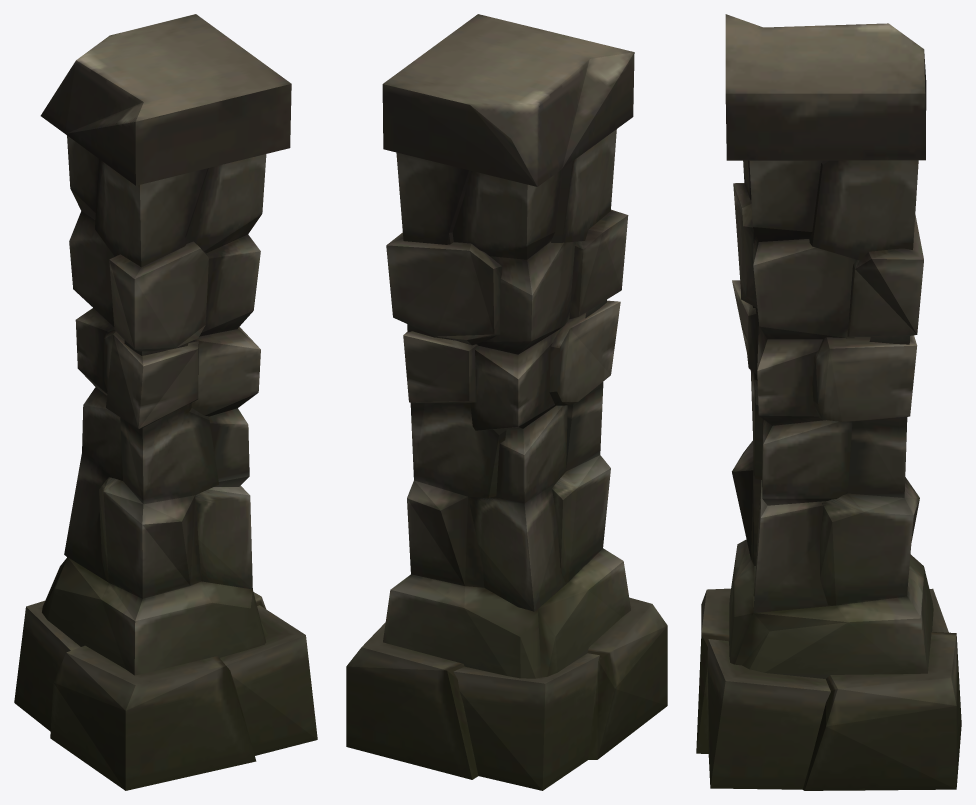
The model's file is humgraveyard_collumn_01.fbx.
3 views of the same model, side by side, from view 1: azimuth 30°, elevation 25°; view 2: azimuth 150°, elevation 25°; view 3: azimuth 270°, elevation 25° (orthographic). The views are drawn at different scales.
Parts seen in each view (by area): view 1: obj0.513; view 2: obj0.513; view 3: obj0.513.
Part boxes in pixels (box(x1,y1,x2,y2)): obj0.513: box(14, 14, 317, 790); obj0.513: box(346, 14, 667, 790); obj0.513: box(696, 14, 961, 790).
Bounding box in the file's own units: 1.57 × 4.5 × 1.58.
